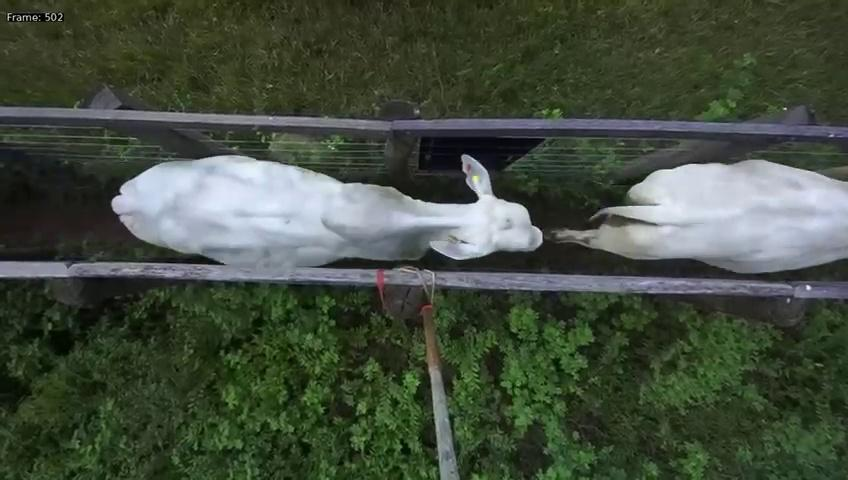cattle: (109, 136, 542, 265)
